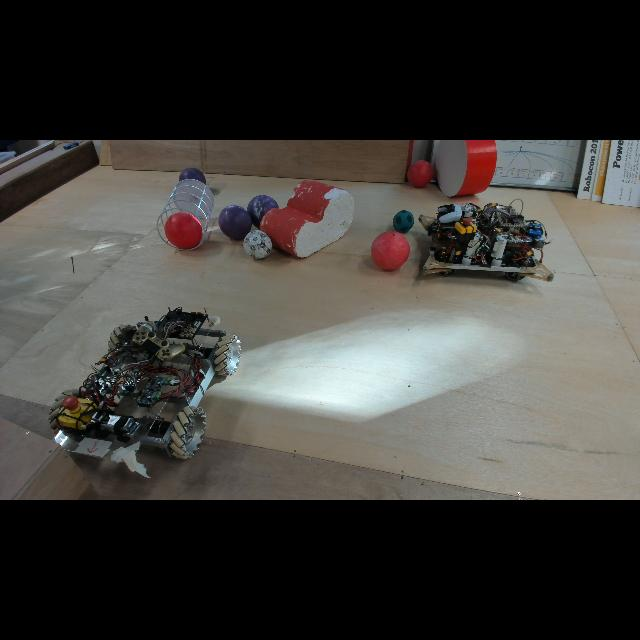P: (218, 205, 252, 239), (247, 195, 279, 229), (178, 168, 206, 192)
R: (370, 231, 410, 271), (164, 212, 203, 250), (406, 160, 434, 188)
S: (154, 179, 216, 253)
